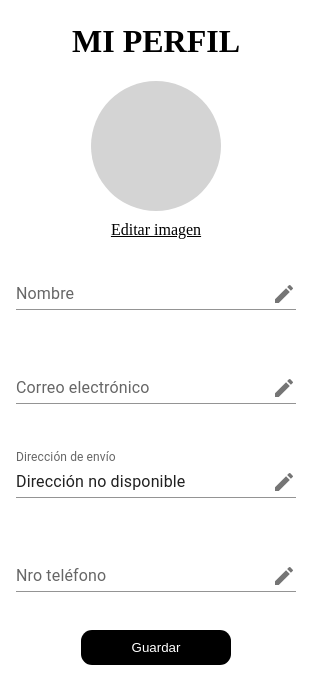
Actualización de información personal › U9-001: Validar que nombre sea un campo obligatorio
The width and height of the screenshot is (320, 697).
Click the button "Guardar": coordinates (156, 647) 81,630 -> 231,665
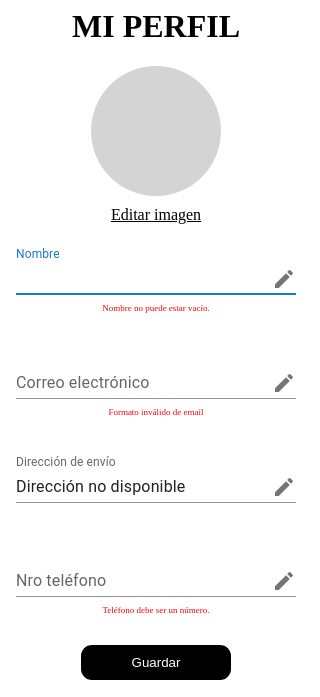
Result: the text "Nombre no puede estar vacío." is shown at 102,303 -> 210,313
